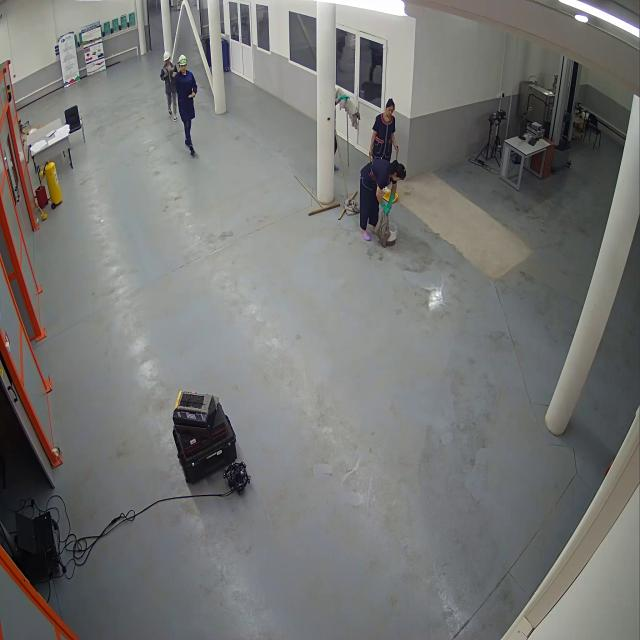Hardhat: (178, 52, 188, 68), (164, 51, 171, 61)
NO-Hardhat: (396, 164, 404, 182), (386, 96, 396, 109)
Person: (360, 156, 406, 243), (174, 52, 200, 158), (370, 94, 401, 161), (335, 82, 352, 176), (157, 51, 178, 120)
